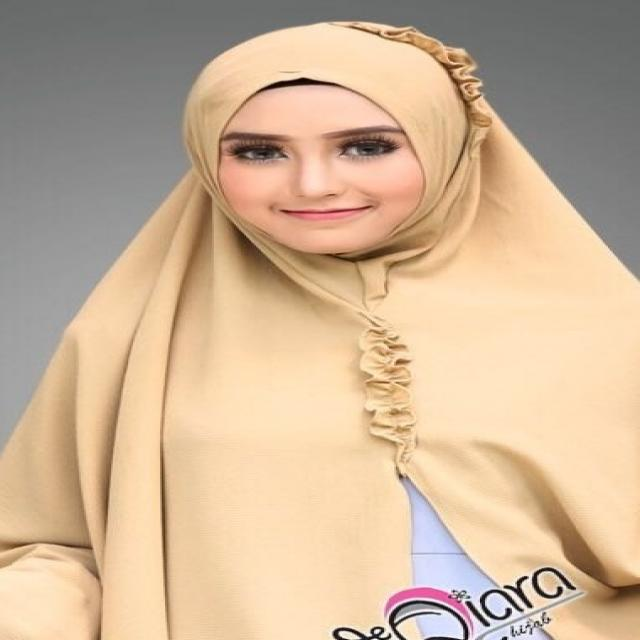head: (180, 17, 505, 267)
